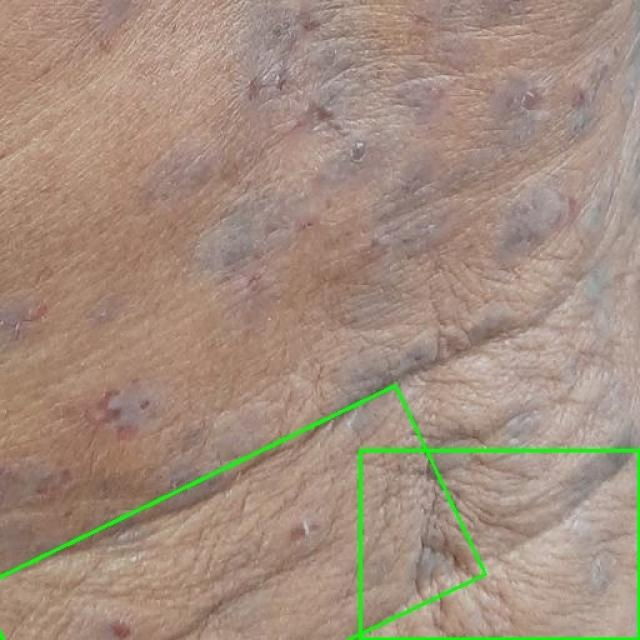Contact Dermatitis: (0, 386, 490, 640), (360, 450, 639, 639)
